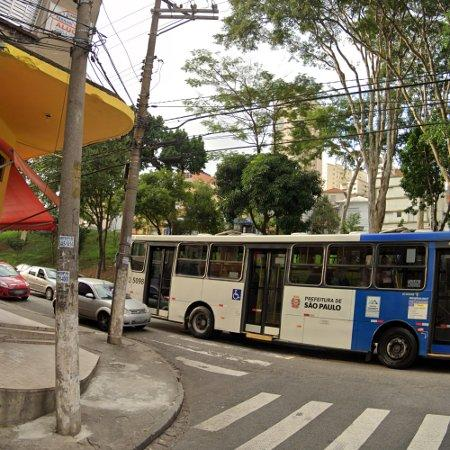crosswalks: (185, 389, 450, 450)
